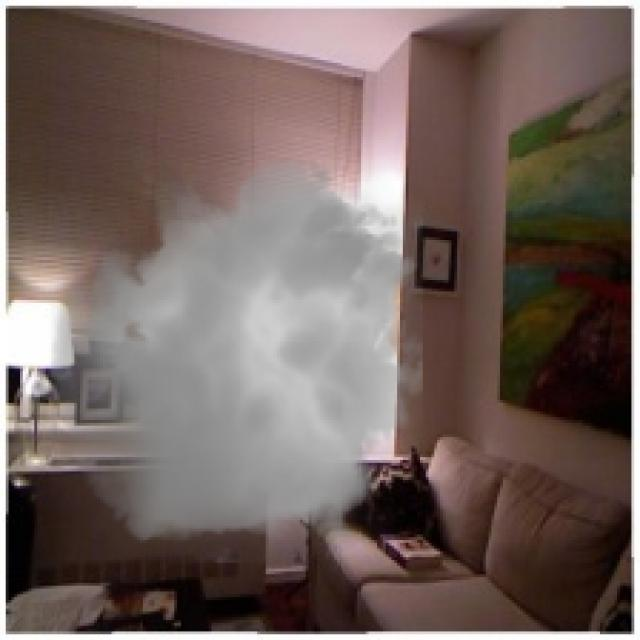smoke: (37, 143, 440, 563)
